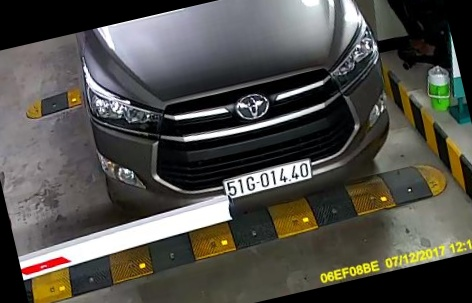plate: (220, 159, 319, 203)
